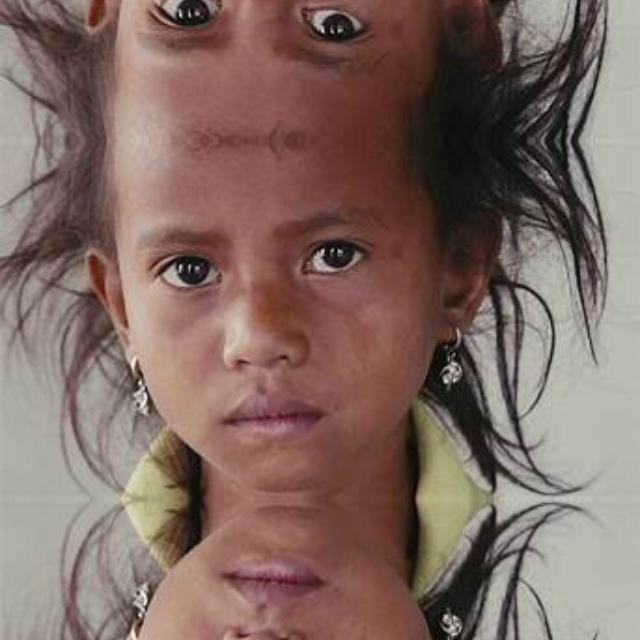person: (18, 140, 600, 498), (18, 498, 600, 640), (18, 0, 600, 140)
